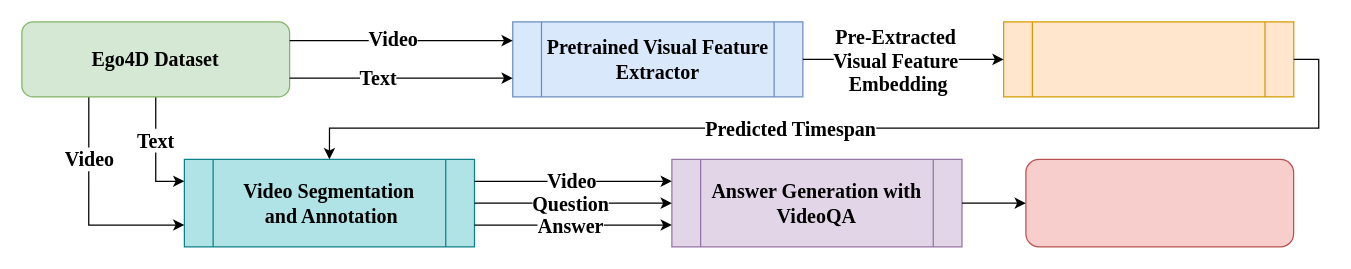
This 1351x269 diagram has some shape labels left out. Each missing label, with the box of its shape:
Query Answer: (1025, 158, 1294, 247)
Temporal Localization Model: (1002, 21, 1294, 97)
